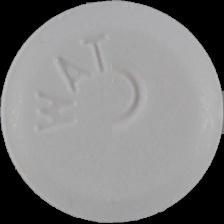54868-4240: (0, 0, 224, 224)
